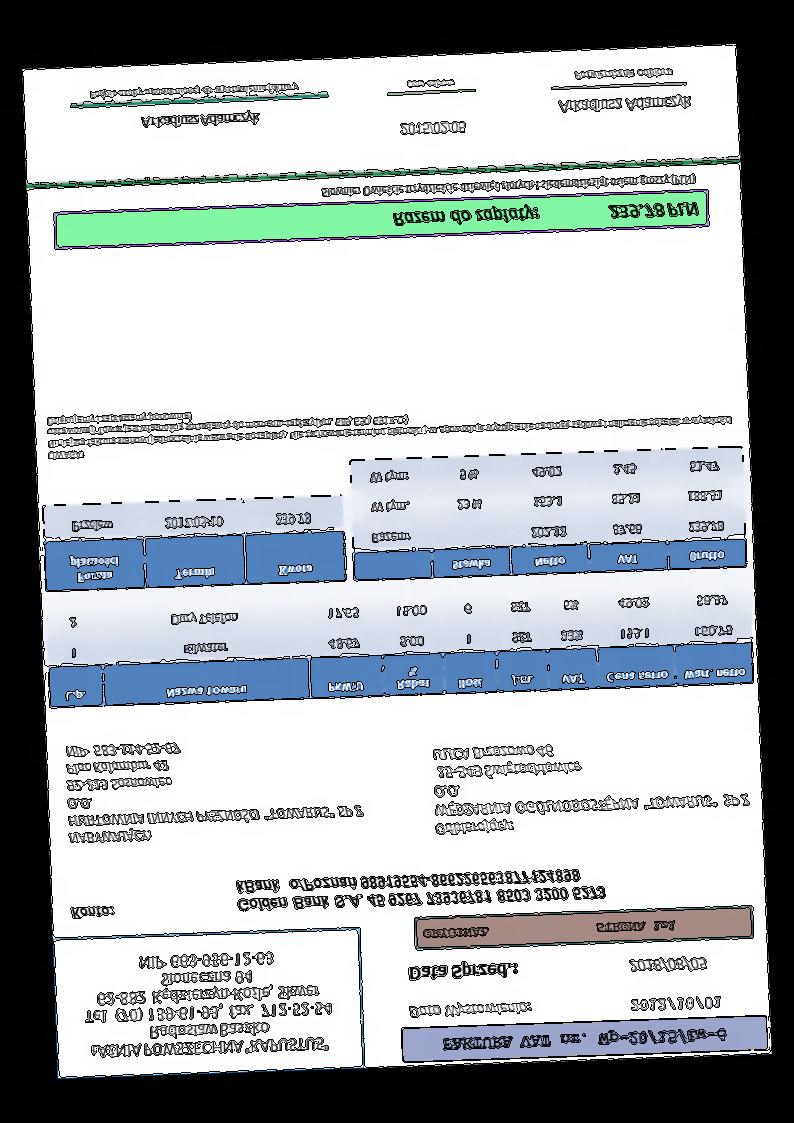Table: (45, 578, 754, 709), (348, 446, 748, 582), (40, 494, 347, 593)
TextBox: (44, 391, 733, 463), (63, 734, 367, 847), (430, 735, 751, 838), (80, 948, 336, 1062), (233, 865, 608, 913), (319, 172, 696, 201), (390, 198, 701, 230), (441, 1025, 730, 1055), (420, 917, 678, 944), (87, 80, 301, 103), (556, 91, 694, 115), (406, 958, 520, 984), (407, 998, 534, 1021), (139, 109, 262, 131), (628, 992, 725, 1013), (572, 66, 674, 83), (627, 955, 709, 974), (398, 119, 467, 138), (69, 903, 114, 922), (404, 78, 454, 91)
